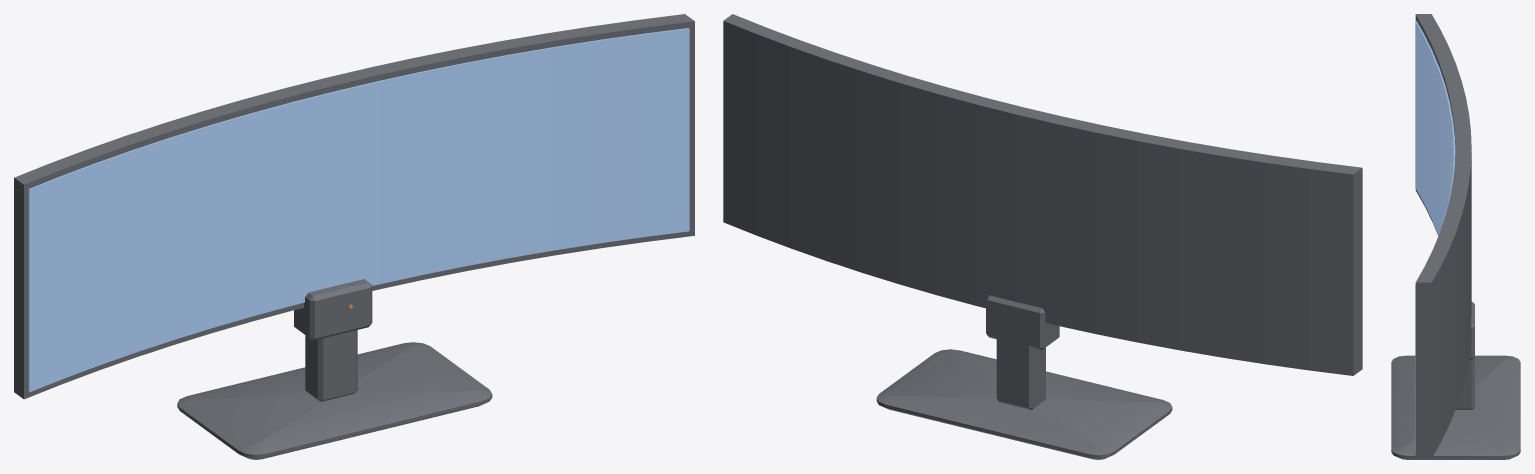
Rendered from computers-and-desk-gadgets-monitor-49-superwide-2bc4ecf8__38834.glb.
3 renders of one model, left to right at view 1: azimuth 30°, elevation 25°; view 2: azimuth 150°, elevation 25°; view 3: azimuth 270°, elevation 25°, orthographic. The views are drawn at different scales.
Parts seen in each view (by area): view 1: monitor-49-superwide; view 2: monitor-49-superwide; view 3: monitor-49-superwide.
Part boxes in pixels (x1,y1,x2,y2): monitor-49-superwide: (14, 14, 694, 459); monitor-49-superwide: (723, 14, 1362, 459); monitor-49-superwide: (1391, 14, 1520, 459).
Bounding box in the file's own units: 1.18 × 0.54 × 0.2399.
